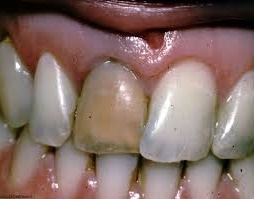Tooth Discoloration: (70, 56, 152, 155)
